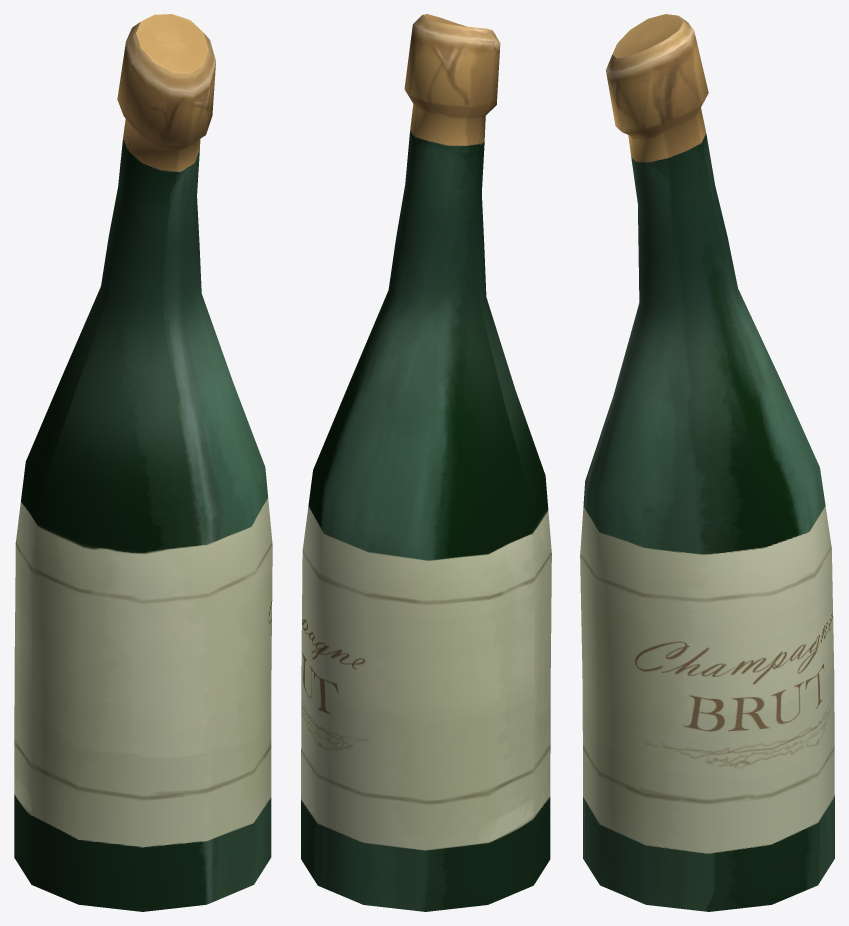
The model's file is champagnebottle.FBX.
3 views of the same model, side by side, from view 1: azimuth 30°, elevation 25°; view 2: azimuth 150°, elevation 25°; view 3: azimuth 270°, elevation 25° (orthographic). The views are drawn at different scales.
Visible parts, largest first — view 1: Cylinder002; view 2: Cylinder002; view 3: Cylinder002.
Part boxes in pixels (x1,y1,x2,y2): Cylinder002: (14, 14, 272, 911); Cylinder002: (301, 14, 551, 911); Cylinder002: (580, 14, 834, 911).
Bounding box in the file's own units: 9.19 × 33.67 × 9.3.
